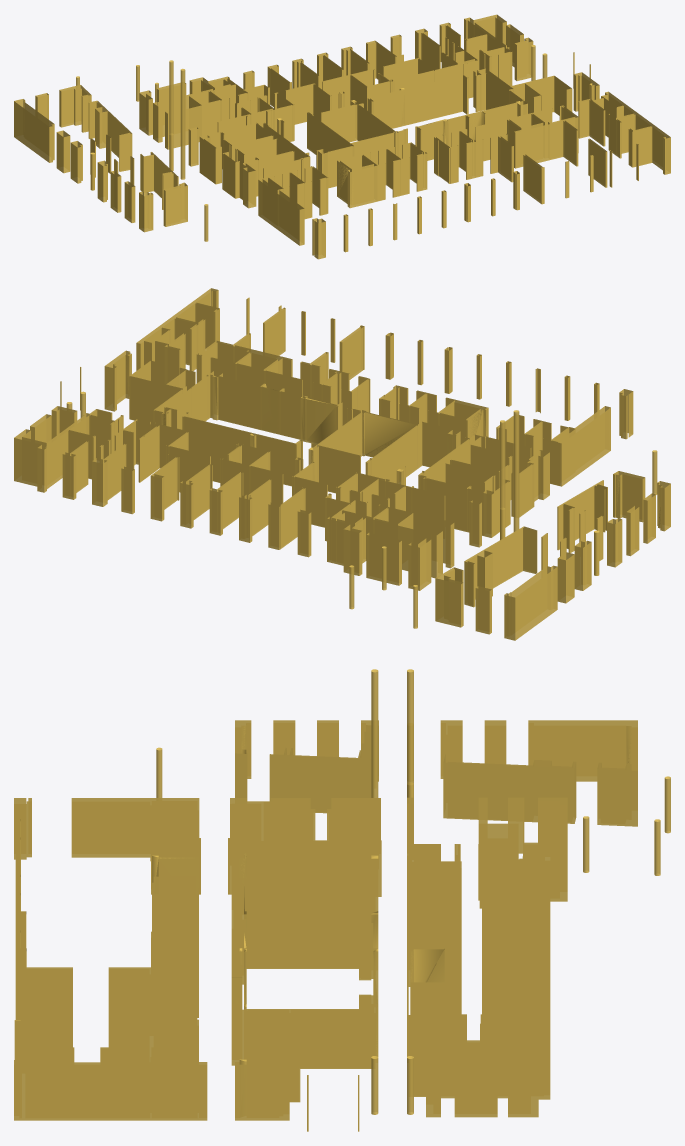
Rendered from ISELF_1stflrwalls.obj.
3 views of the same model, one above another, from view 1: azimuth 30°, elevation 25°; view 2: azimuth 150°, elevation 25°; view 3: azimuth 270°, elevation 25° (orthographic). The views are drawn at different scales.
Parts seen in each view (by area): view 1: FirstFloorWalls; view 2: FirstFloorWalls; view 3: FirstFloorWalls.
Boxes of the visible parts, <box> form: FirstFloorWalls: <box>14,14,670,259</box>; FirstFloorWalls: <box>14,288,670,640</box>; FirstFloorWalls: <box>14,669,670,1131</box>.
Size of the model in its own units: 2452 by 544 by 1916.
